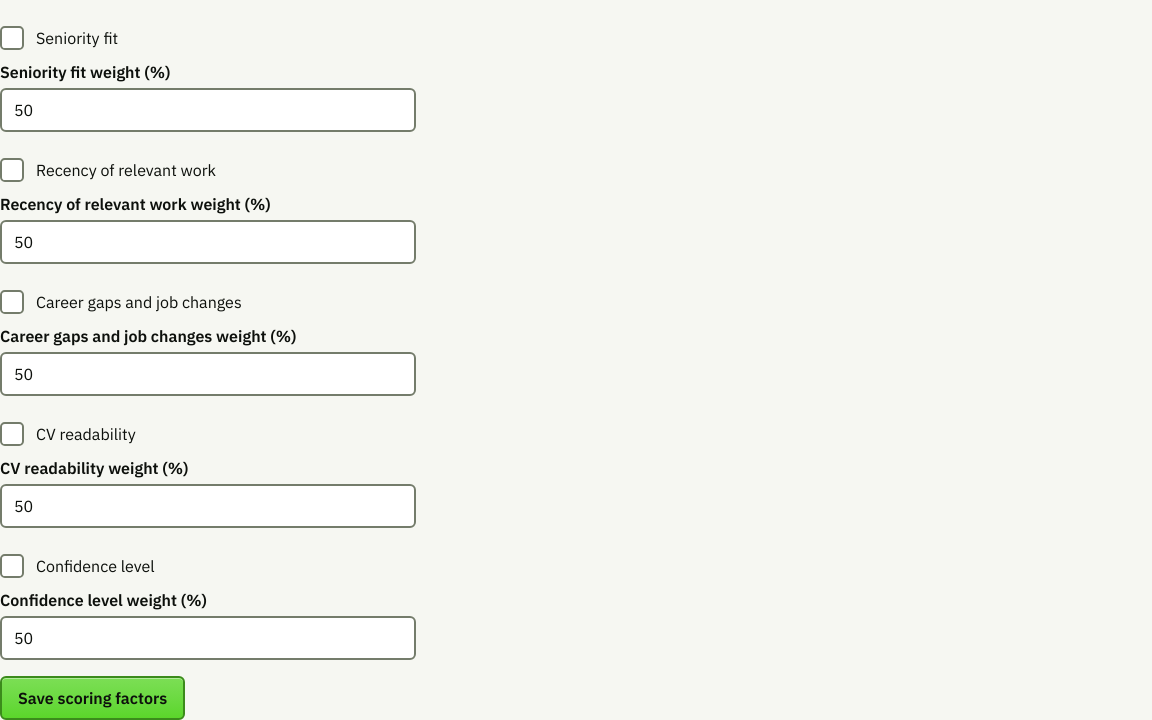
Scenario: extra scoring factors › sends nothing for job fields that are left empty
This screenshot has width=1152, height=720.
(page scrolled)
Click the button "Save scoring factors" at (93, 698), box [0,676,185,719]
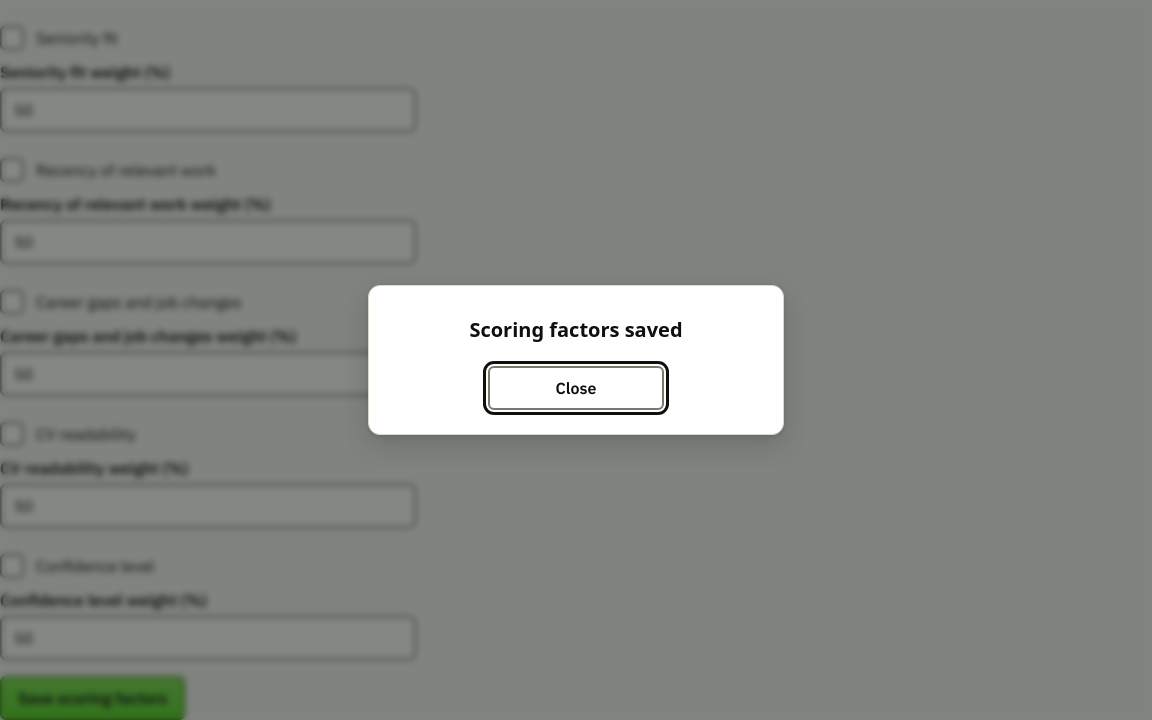
Expected: the heading "Scoring factors saved" is shown, [469,316,682,343]
